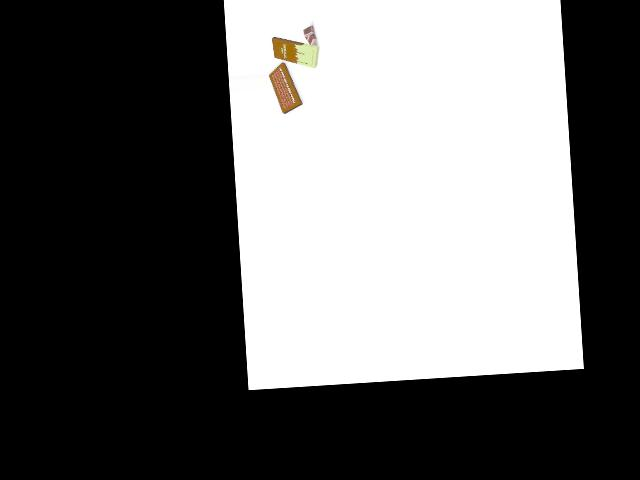chocolate: (271, 37, 321, 68)
